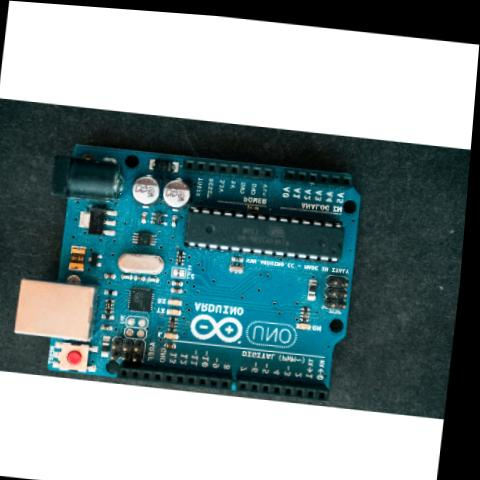Arduino-Uno: (8, 124, 377, 402)
